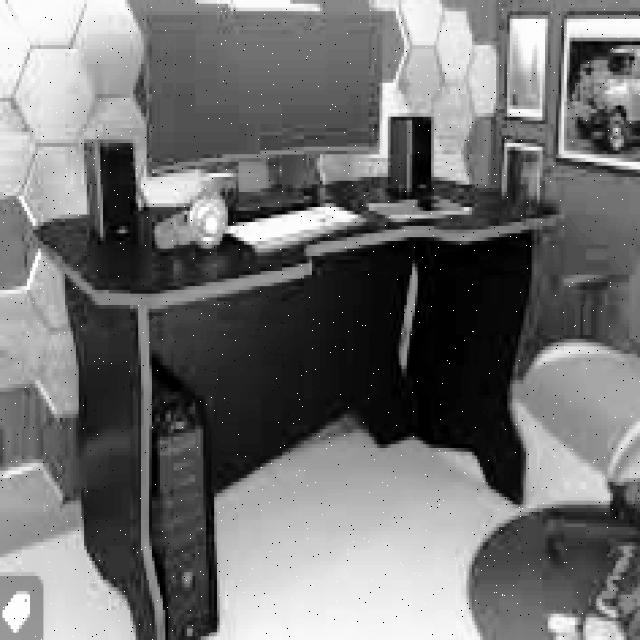table: (27, 169, 564, 640)
